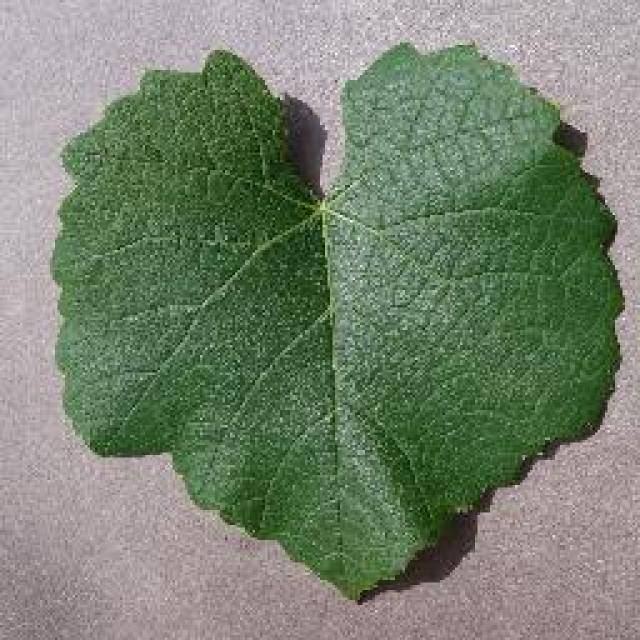Grape___healthy: (52, 45, 620, 595)
